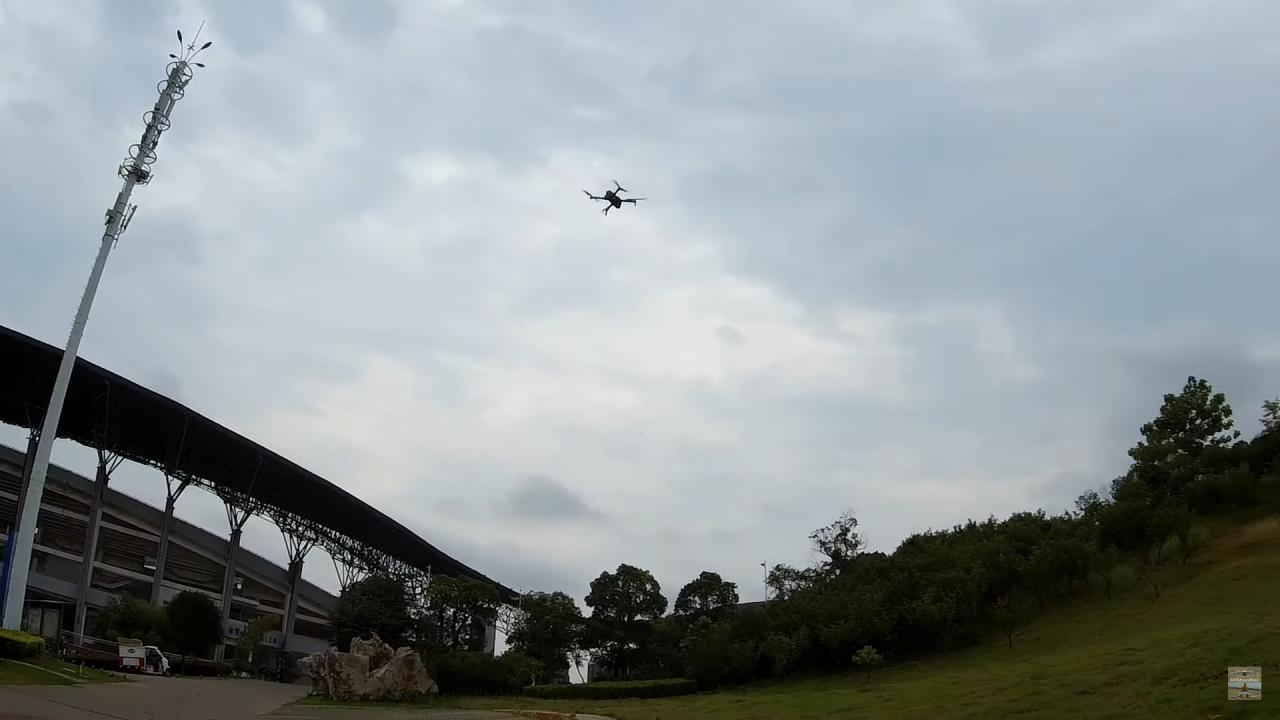Drone: (572, 170, 660, 228)
